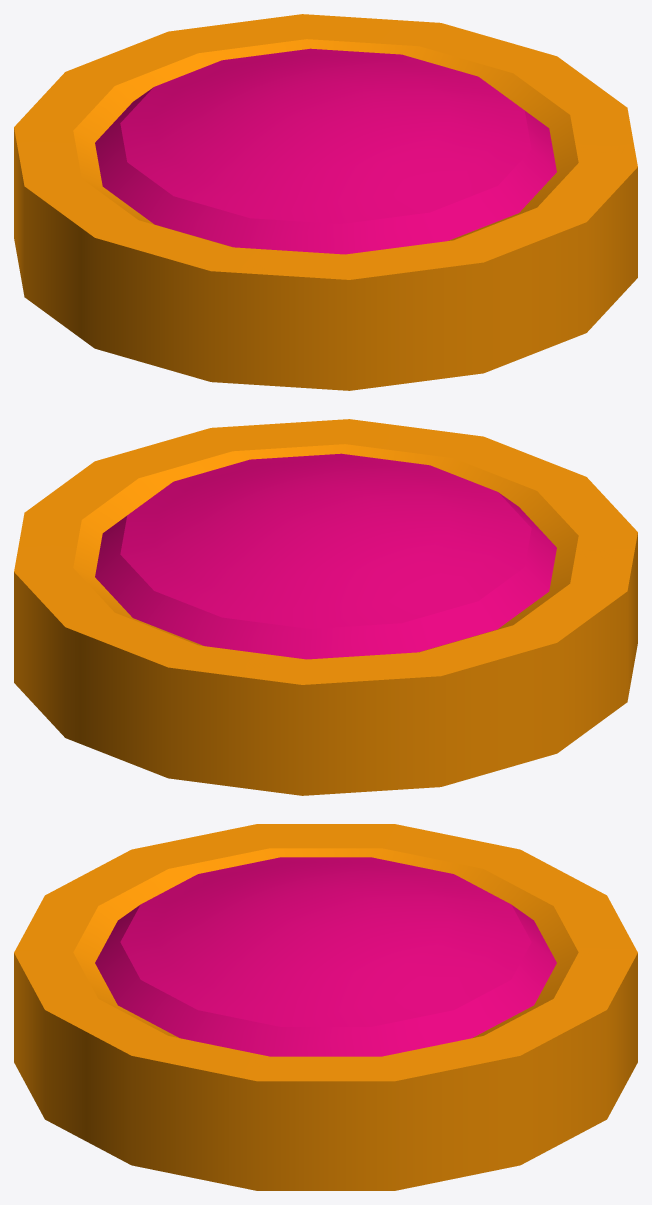
3 views of the same model, one above another, from view 1: azimuth 30°, elevation 25°; view 2: azimuth 150°, elevation 25°; view 3: azimuth 270°, elevation 25° (orthographic).
Parts seen in each view (by area): view 1: Cylinder.004; view 2: Cylinder.004; view 3: Cylinder.004.
Part boxes in pixels (left/top/right/bottom): Cylinder.004: left=14, top=14, right=637, bottom=390; Cylinder.004: left=14, top=419, right=637, bottom=795; Cylinder.004: left=14, top=824, right=637, bottom=1190.
Size of the model in its own units: 195 by 54.19 by 200.
